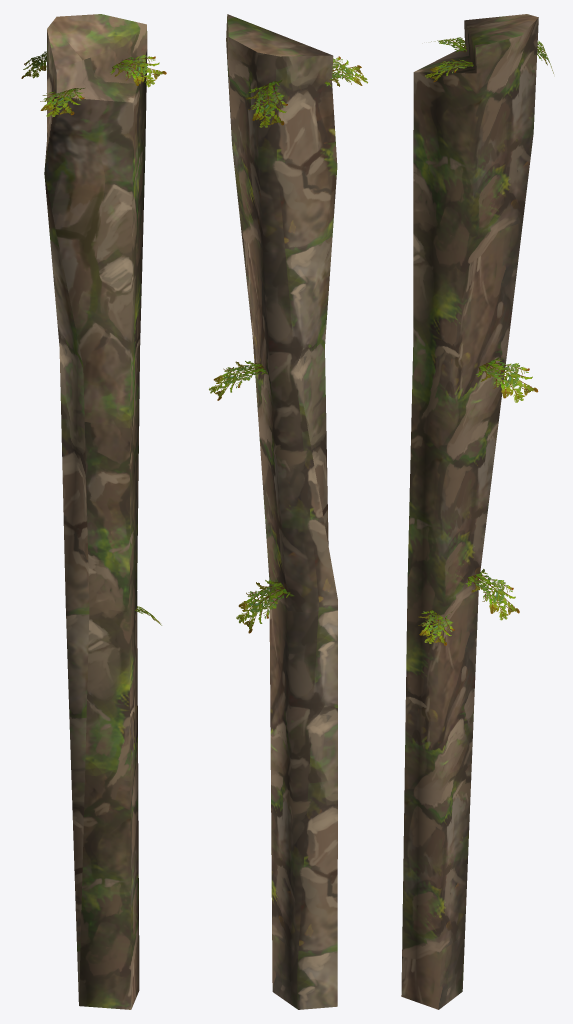
File: gjs_yanti06.FBX
The picture shows the model from 3 angles, left to right: view 1: azimuth 30°, elevation 25°; view 2: azimuth 150°, elevation 25°; view 3: azimuth 270°, elevation 25°; orthographic projection. The views are drawn at different scales.
Visible parts, largest first — view 1: Box06, Plane134, Plane135; view 2: Box06, Plane132, Plane137, Plane01, Plane135; view 3: Box06, Plane01, Plane132, Plane133, Plane134.
Boxes of the visible parts, x1=… form: Box06: x1=44, y1=14, x2=147, y2=1009; Plane134: x1=110, y1=54, x2=166, y2=87; Plane135: x1=40, y1=88, x2=84, y2=116; Box06: x1=226, y1=14, x2=337, y2=1009; Plane132: x1=236, y1=579, x2=294, y2=633; Plane137: x1=245, y1=80, x2=287, y2=127; Plane01: x1=209, y1=361, x2=267, y2=400; Plane135: x1=324, y1=56, x2=367, y2=86; Box06: x1=401, y1=14, x2=538, y2=1009; Plane01: x1=476, y1=357, x2=538, y2=402; Plane132: x1=465, y1=569, x2=519, y2=620; Plane133: x1=418, y1=609, x2=454, y2=645; Plane134: x1=425, y1=58, x2=473, y2=82.
Bounding box in the file's own units: 359 × 2401 × 350.
